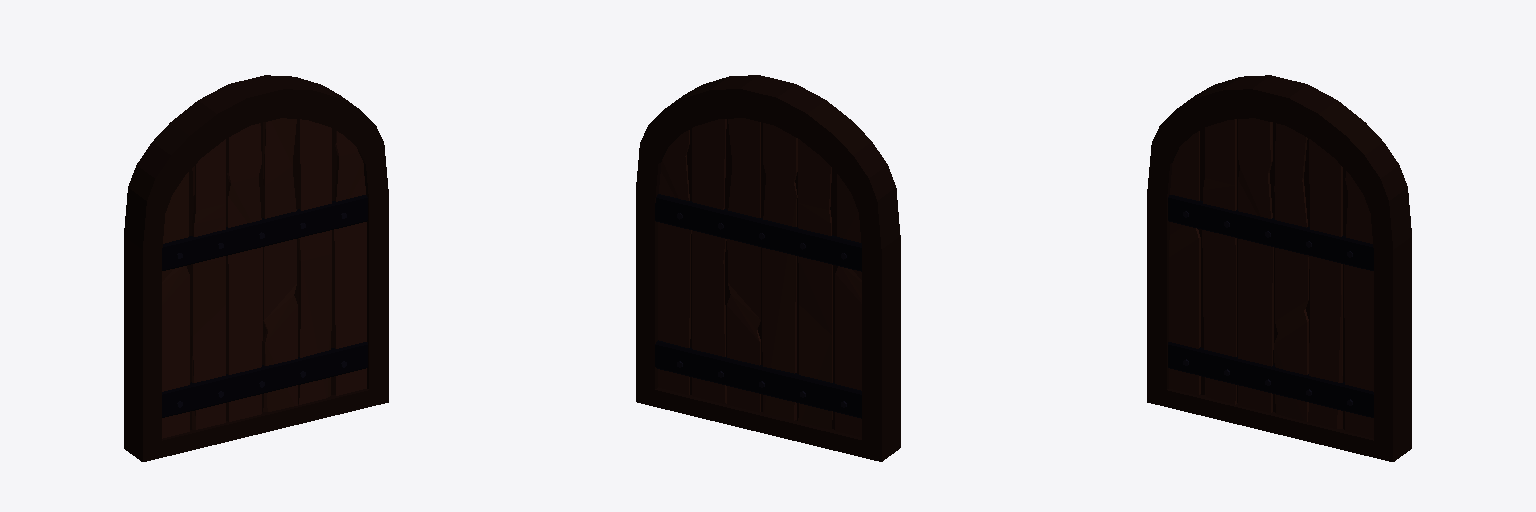
Rendered from Arch_Door.obj.
3 views of the same model, side by side, from view 1: azimuth 30°, elevation 25°; view 2: azimuth 150°, elevation 25°; view 3: azimuth 330°, elevation 25° (orthographic).
Visible parts, largest first — view 1: Arch_Door_Cube.044; view 2: Arch_Door_Cube.044; view 3: Arch_Door_Cube.044.
Part boxes in pixels (x1,y1,x2,y2): Arch_Door_Cube.044: (124,75,388,461); Arch_Door_Cube.044: (636,75,900,461); Arch_Door_Cube.044: (1147,75,1411,461).
Size of the model in its own units: 2.42 by 3.19 by 0.3296.